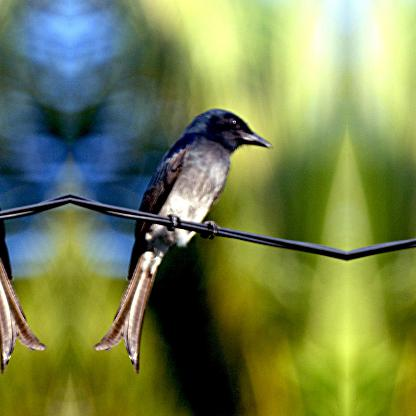Bird: (106, 113, 274, 329)
